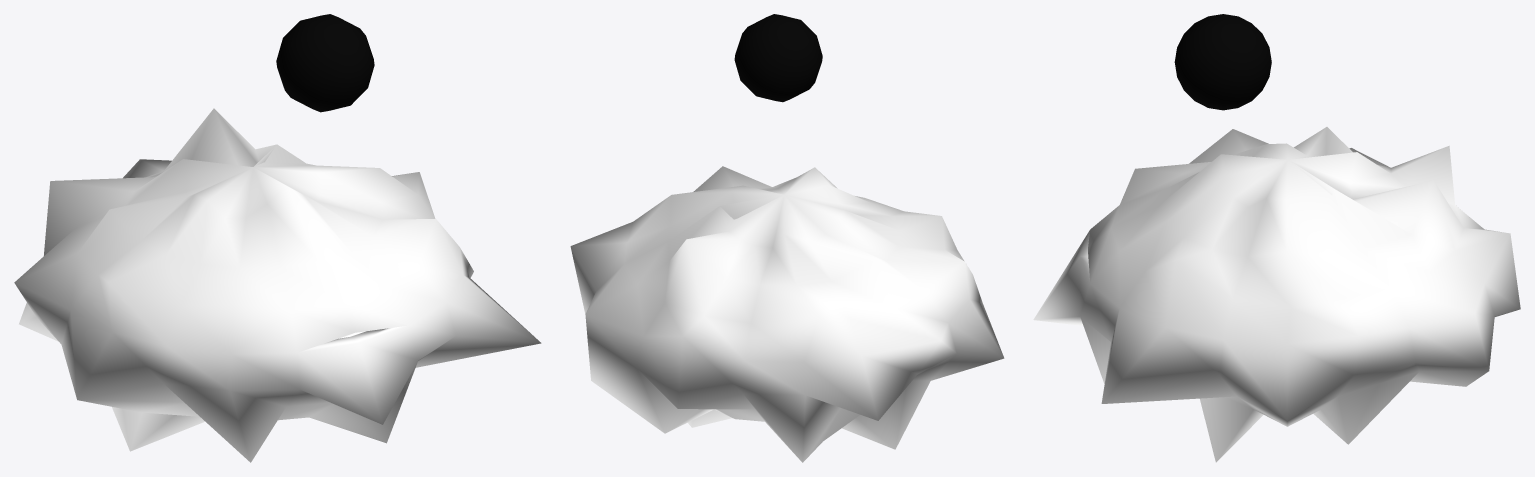
Rendered from Meep_tex.fbx.
The picture shows the model from 3 angles, left to right: view 1: azimuth 30°, elevation 25°; view 2: azimuth 150°, elevation 25°; view 3: azimuth 270°, elevation 25°; orthographic projection. The views are drawn at different scales.
Parts seen in each view (by area): view 1: Mepp_Body, eye; view 2: Mepp_Body, eye; view 3: Mepp_Body, eye.
Boxes of the visible parts, x1,y1,x2,y2 form: Mepp_Body: (14,108,541,462); eye: (276,14,374,112); Mepp_Body: (570,166,1004,462); eye: (734,14,822,102); Mepp_Body: (1033,127,1520,462); eye: (1174,14,1271,110).
Bounding box in the file's own units: 23.07 × 21.61 × 22.98.
